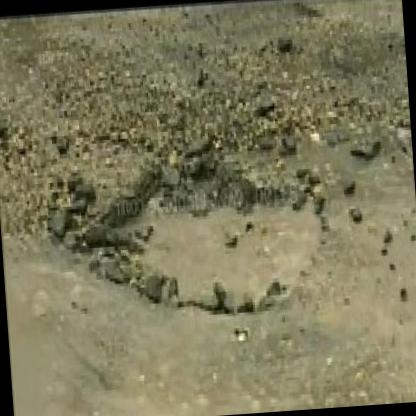pothole: (75, 145, 332, 326)
